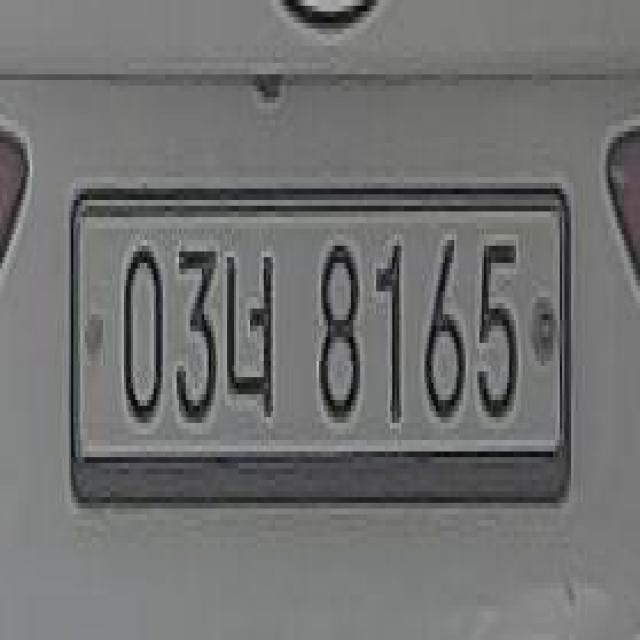illegal_plate: (72, 168, 575, 523)
